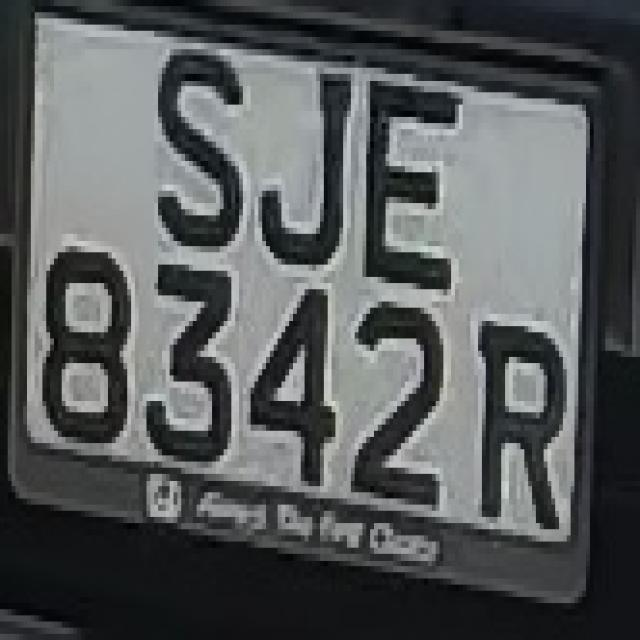2: (351, 270, 447, 548)
3: (143, 228, 235, 486)
4: (235, 258, 339, 498)
8: (31, 228, 131, 474)
E: (362, 62, 459, 320)
J: (255, 18, 362, 296)
R: (470, 270, 567, 548)
S: (146, 18, 258, 296)
